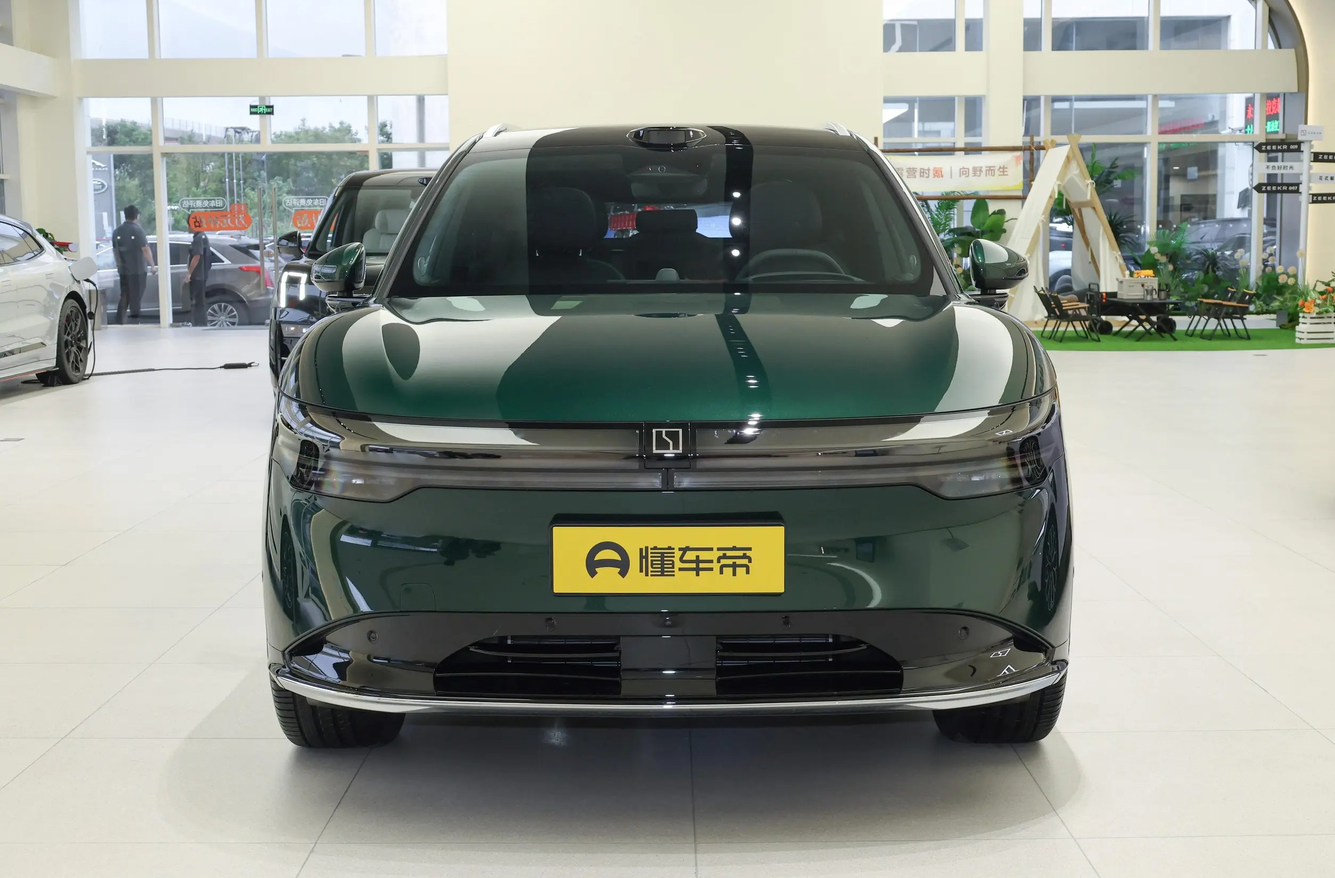ZEEKR: (653, 429, 682, 453)
